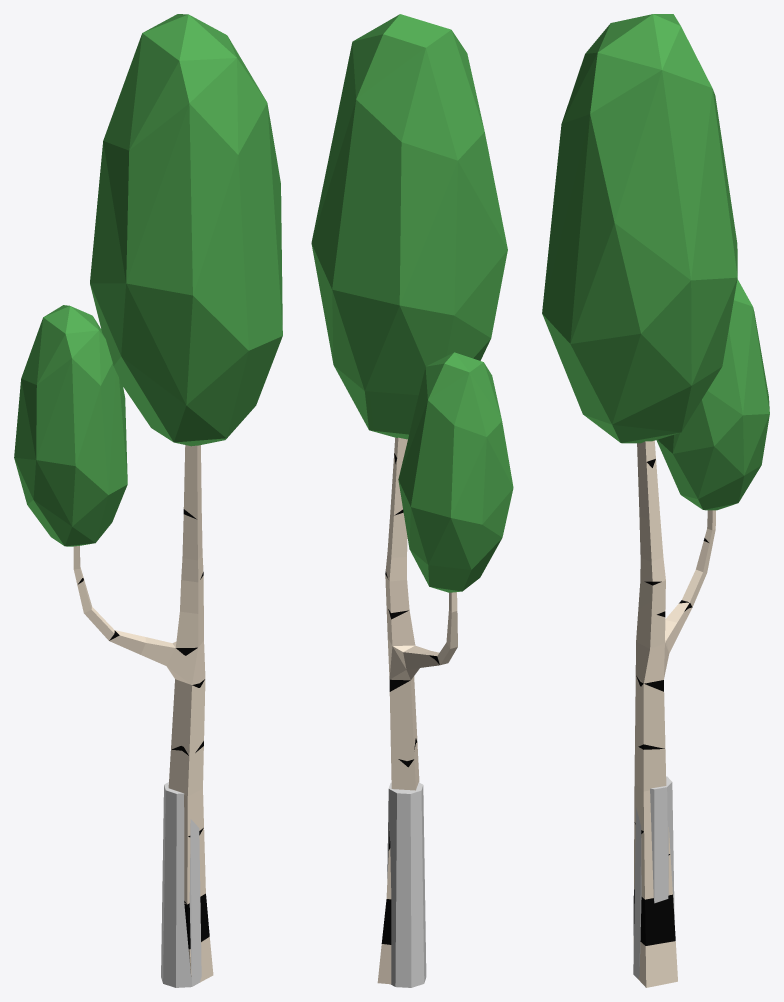
Rendered from floresta_tree_birch_medium_green.glb.
3 views of the same model, side by side, from view 1: azimuth 30°, elevation 25°; view 2: azimuth 150°, elevation 25°; view 3: azimuth 270°, elevation 25° (orthographic).
Visible parts, largest first — view 1: Birch middle green f, Colisao; view 2: Birch middle green f, Colisao; view 3: Birch middle green f, Colisao.
Boxes of the visible parts, bbox=[...] form: Birch middle green f: bbox=[14, 14, 282, 982]; Colisao: bbox=[161, 782, 201, 987]; Birch middle green f: bbox=[311, 14, 513, 984]; Colisao: bbox=[387, 782, 426, 987]; Birch middle green f: bbox=[542, 14, 769, 987]; Colisao: bbox=[633, 776, 674, 978].
Bounding box in the file's own units: 3.39 × 14.88 × 3.19.
